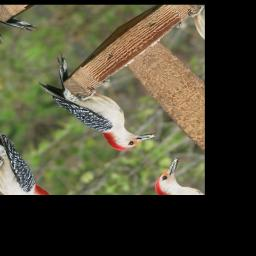Woodpecker: (30, 44, 159, 167)
